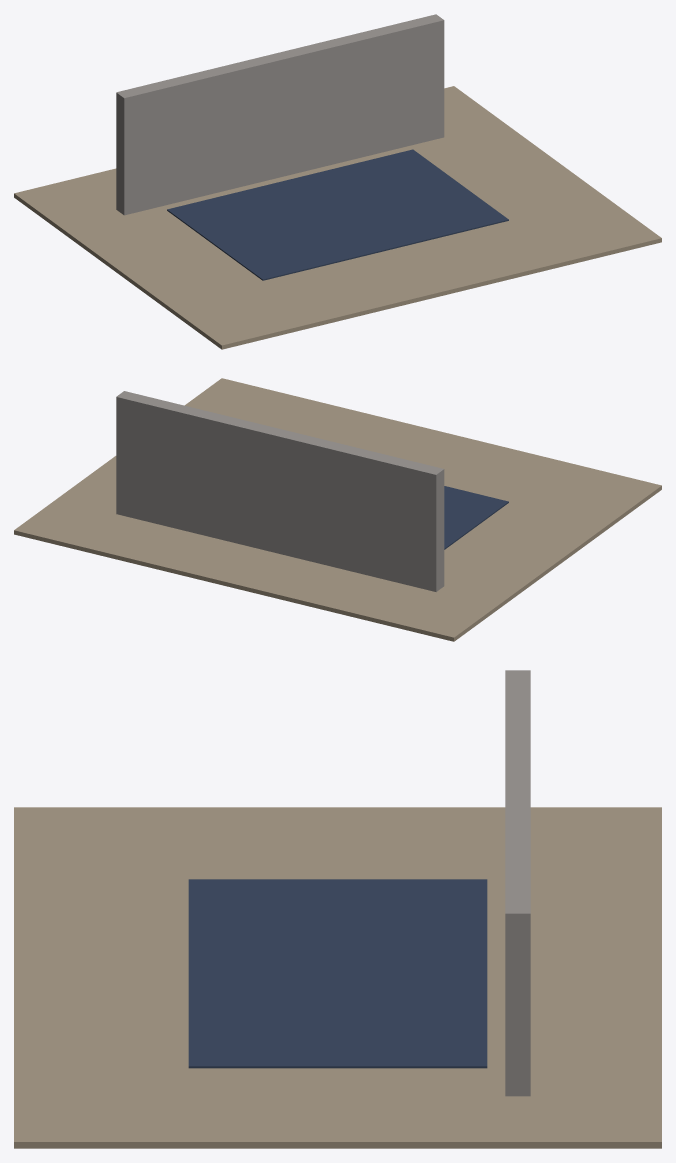
The model's file is stage_03_foundation_reinforcement.glb.
The picture shows the model from 3 angles, top to bottom: view 1: azimuth 30°, elevation 25°; view 2: azimuth 150°, elevation 25°; view 3: azimuth 270°, elevation 25°; orthographic projection. The views are drawn at different scales.
Parts seen in each view (by area): view 1: world; view 2: world; view 3: world.
Boxes of the visible parts, x1,y1,x2,y2 form: world: [14, 14, 661, 349]; world: [14, 378, 661, 641]; world: [14, 670, 661, 1148].
Size of the model in its own units: 11 by 2.9 by 9.
